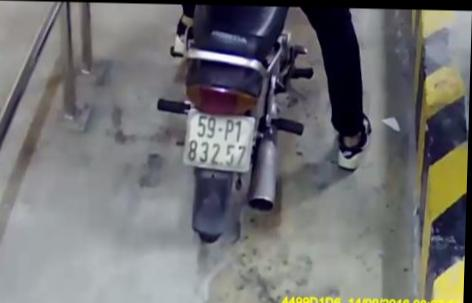LP: (184, 104, 258, 171)
